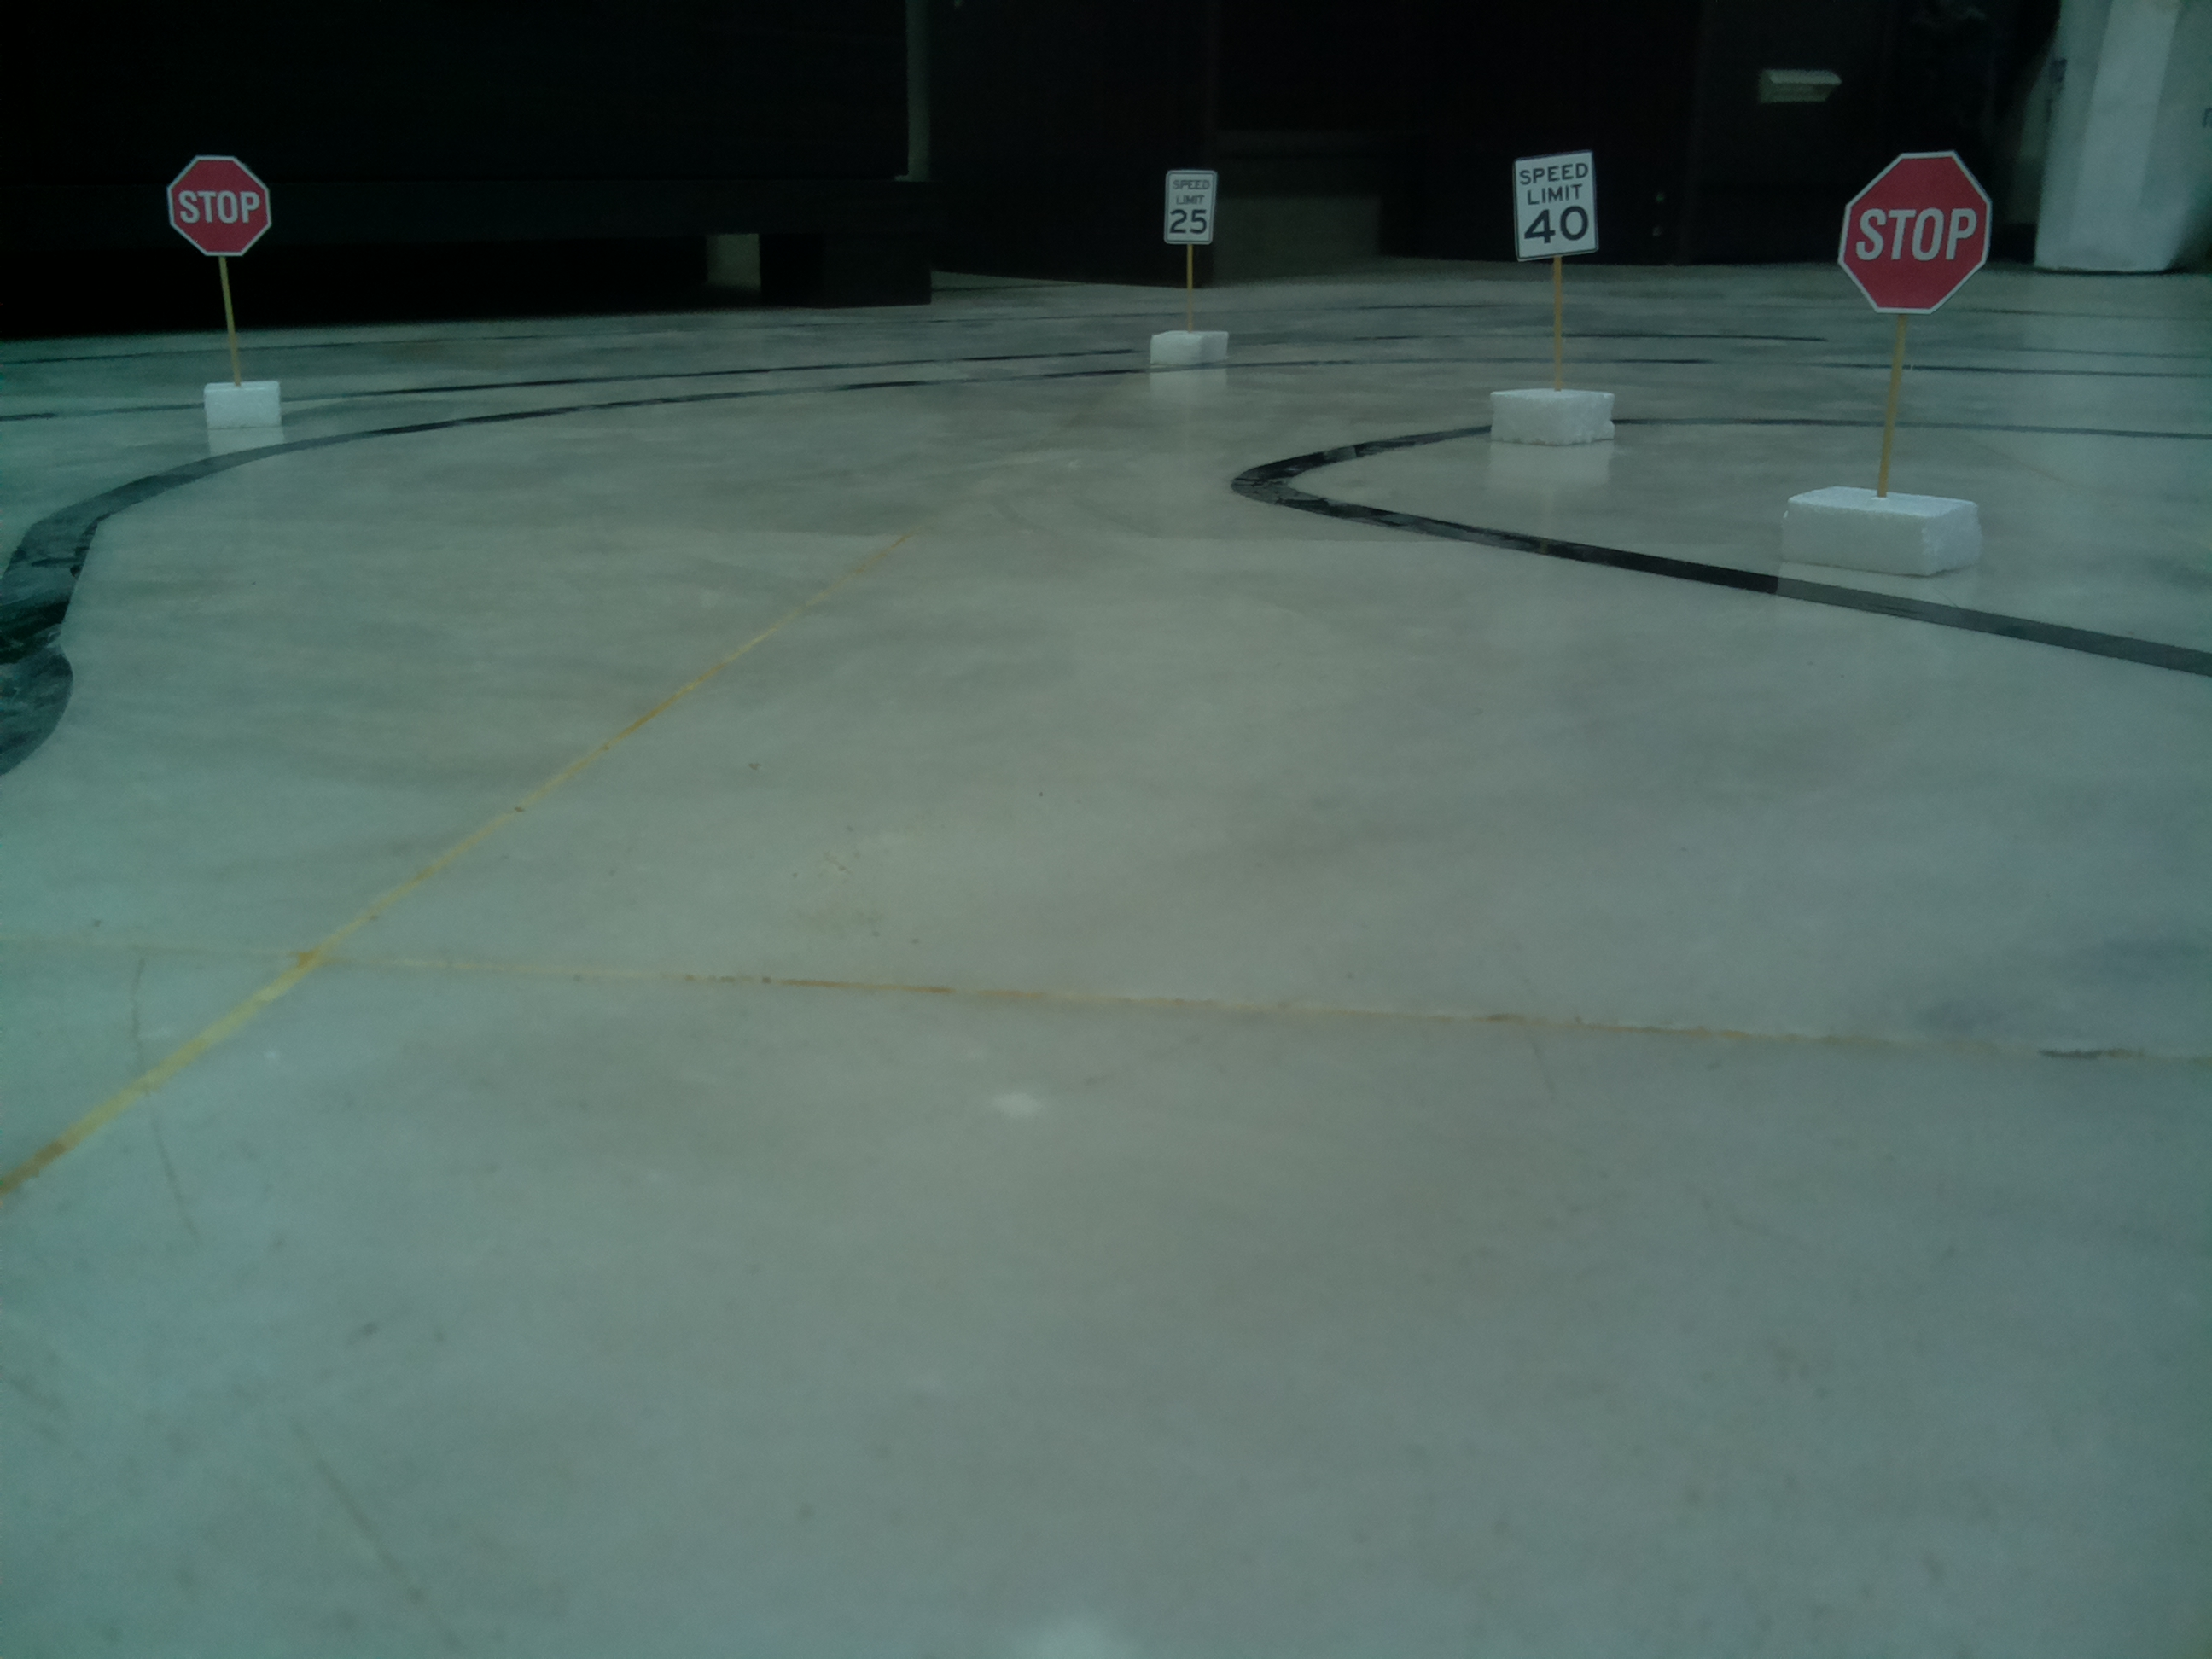Speed limit 25: (1158, 159, 1223, 260)
Speed limit 40: (1510, 153, 1616, 265)
Stop sign: (1829, 134, 2000, 322), (153, 152, 286, 265)
